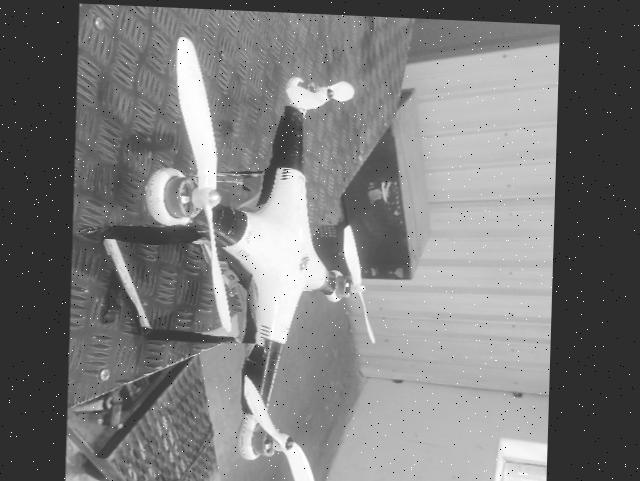drone: (79, 19, 395, 481)
